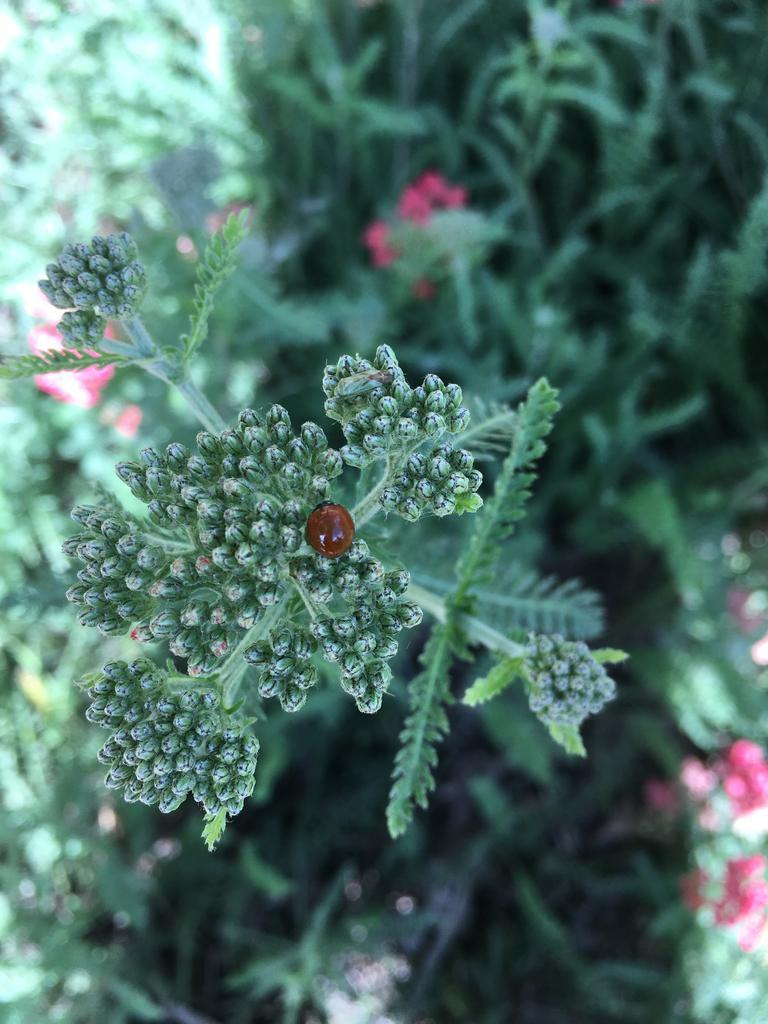ladybug: (305, 500, 358, 560)
